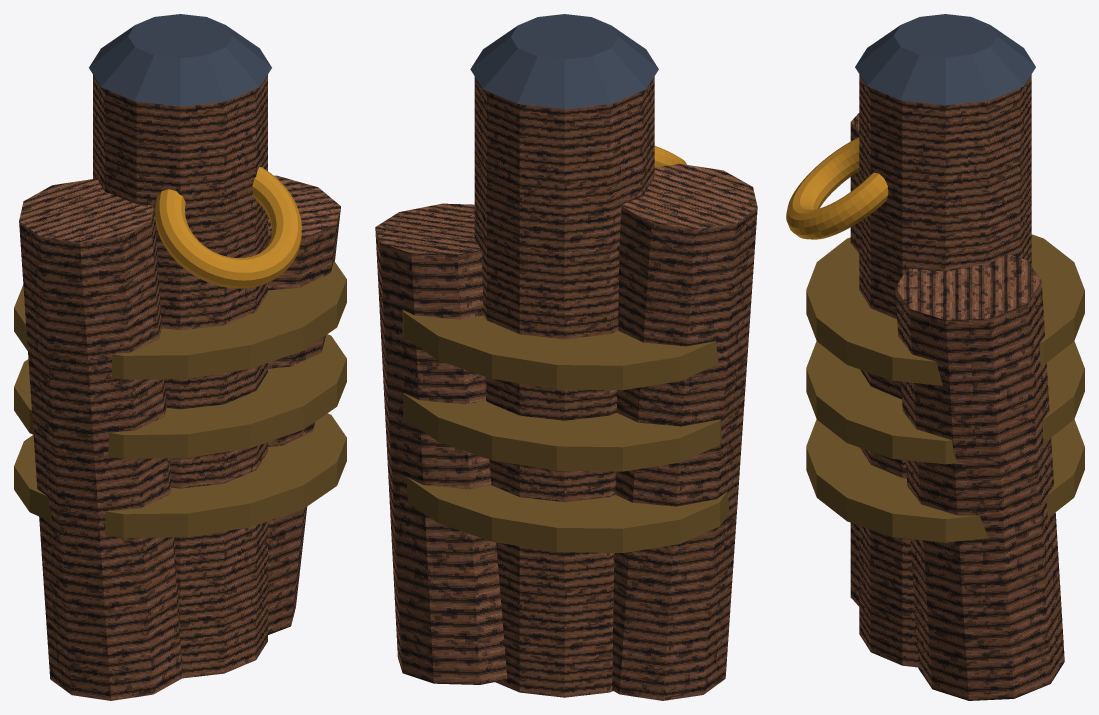
The model's file is poste_amarre.glb.
3 renders of one model, left to right at view 1: azimuth 30°, elevation 25°; view 2: azimuth 150°, elevation 25°; view 3: azimuth 270°, elevation 25°, orthographic. The views are drawn at different scales.
Visible parts, largest first — view 1: Cylinder.001, Cylinder, Cylinder.003, Cylinder.004, Cylinder.005, Cone, Cylinder.002, Torus; view 2: Cylinder, Cylinder.001, Cylinder.002, Cylinder.005, Cylinder.004, Cylinder.003, Cone; view 3: Cylinder.002, Cylinder, Cylinder.005, Cone, Cylinder.003, Cylinder.004, Torus, Cylinder.001.
Part boxes in pixels (bbox=[...]): Cylinder.001: bbox=[19, 179, 182, 700]; Cylinder: bbox=[93, 75, 267, 678]; Cylinder.003: bbox=[14, 413, 346, 537]; Cylinder.004: bbox=[14, 334, 346, 458]; Cylinder.005: bbox=[14, 261, 346, 379]; Cone: bbox=[89, 14, 271, 106]; Cylinder.002: bbox=[268, 175, 340, 634]; Torus: bbox=[155, 167, 301, 288]; Cylinder: bbox=[474, 76, 654, 697]; Cylinder.001: bbox=[612, 164, 757, 700]; Cylinder.002: bbox=[375, 203, 507, 684]; Cylinder.005: bbox=[402, 310, 718, 390]; Cylinder.004: bbox=[403, 393, 721, 471]; Cylinder.003: bbox=[406, 477, 729, 552]; Cone: bbox=[470, 14, 658, 109]; Cylinder.002: bbox=[895, 253, 1064, 700]; Cylinder: bbox=[859, 74, 1031, 667]; Cylinder.005: bbox=[806, 234, 1084, 385]; Cone: bbox=[855, 14, 1035, 105]; Cylinder.003: bbox=[806, 419, 1084, 542]; Cylinder.004: bbox=[806, 341, 1084, 464]; Torus: bbox=[786, 137, 888, 239]; Cylinder.001: bbox=[850, 113, 859, 606].
Bounding box in the file's own units: 0.8586 × 1.54 × 0.6925.
4 materials, 1 textured.
